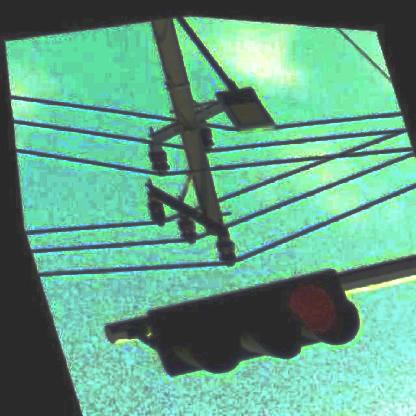Traffic Light -Red-: (130, 248, 366, 388)
